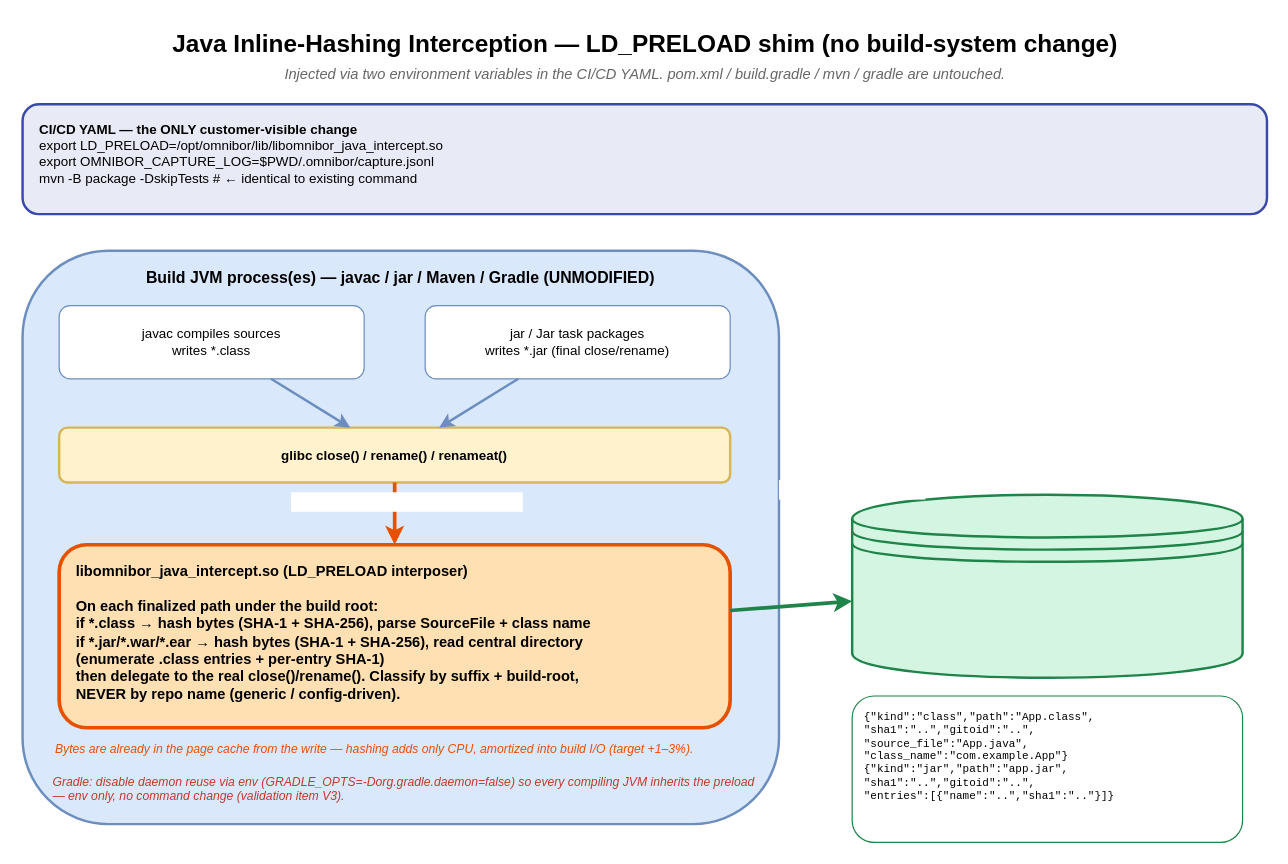
This 1288x864 diagram has some shape labels left out. The centre of each missing label's shape, as x and y in pixels:
append event: the point at 851,489
capture.jsonl (append-only) one event per finalized .class / .jar: the point at 1046,585
interposed before real syscall: the point at 406,501
